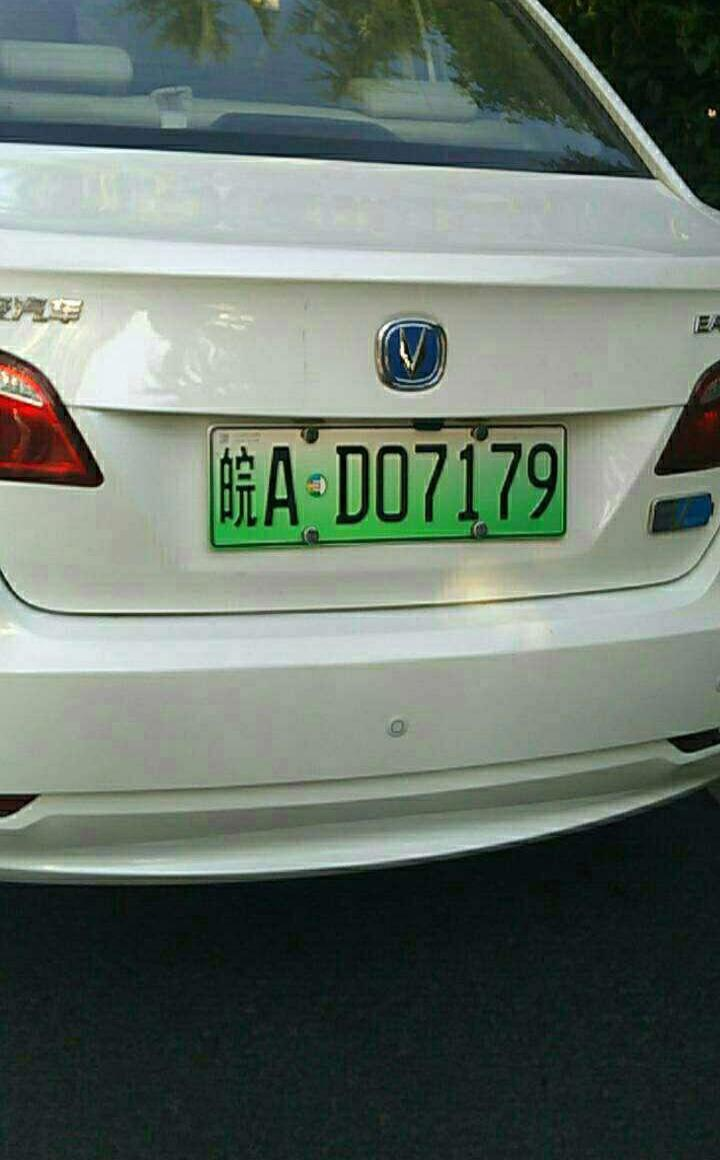car_id: (214, 418, 564, 549)
